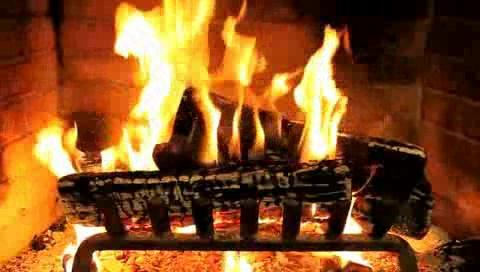fire: (103, 3, 343, 171)
